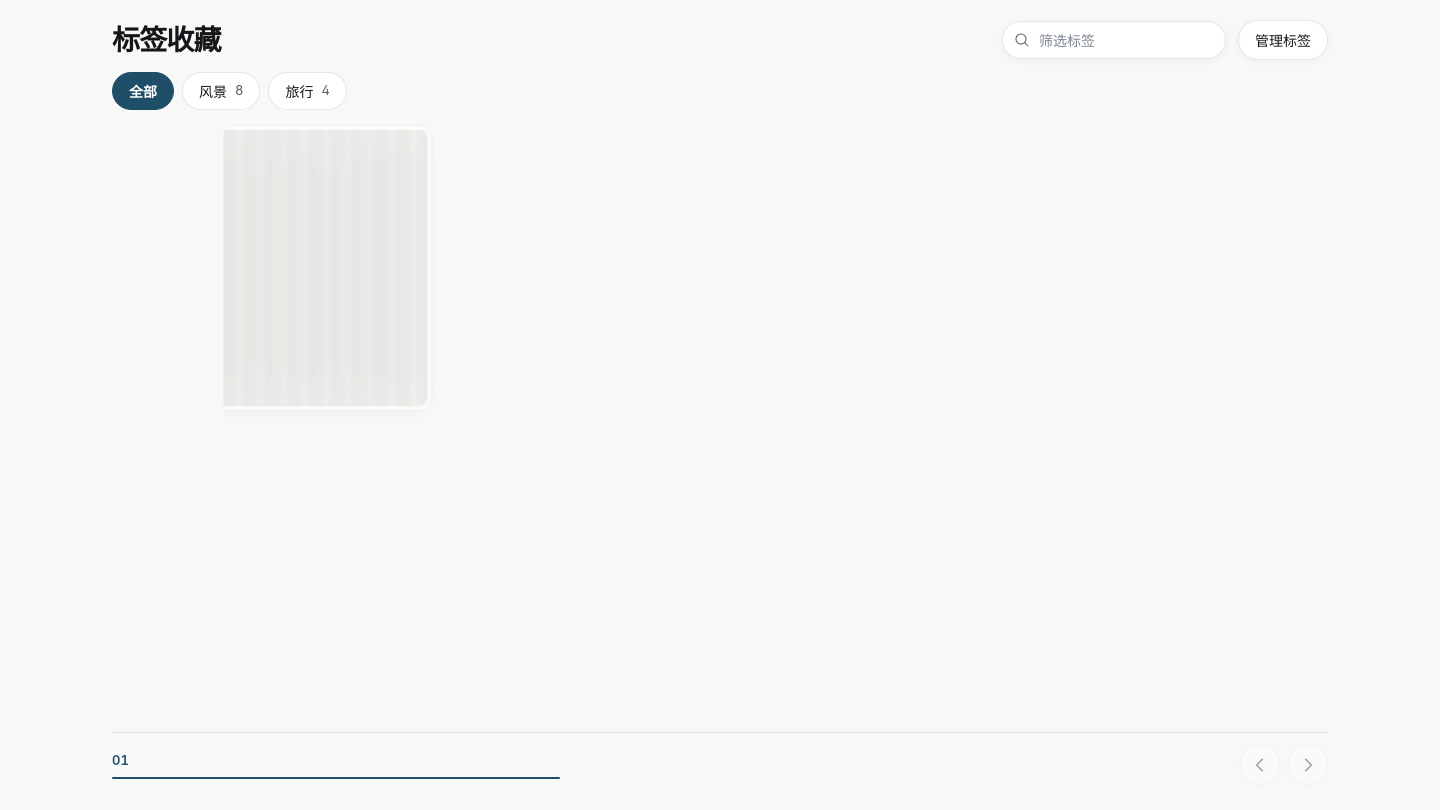
Test: aborts an old label query and ignores its late response after selecting another label
Click the button with aria-label "打开标签 风景": (221, 91) 182,72 -> 260,110
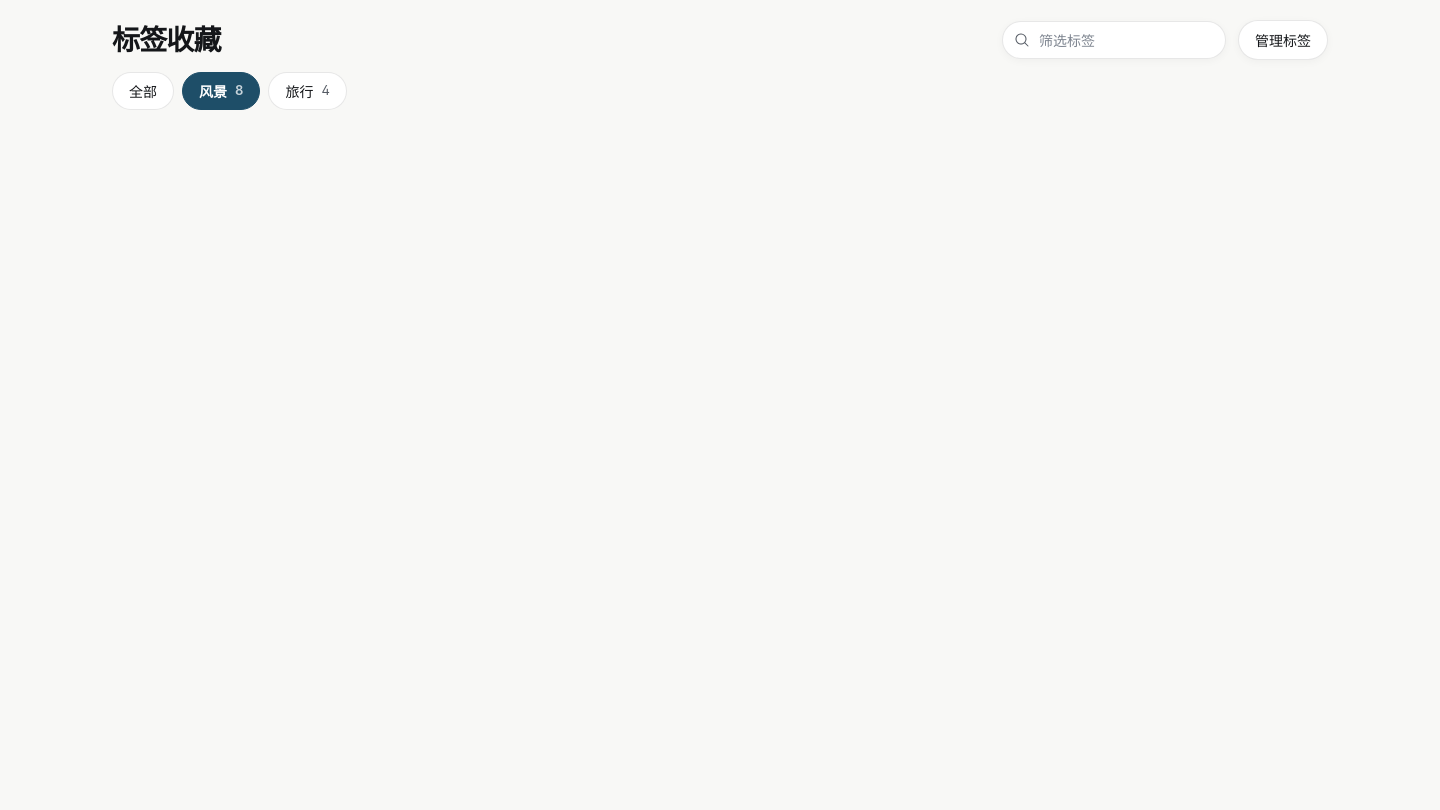
Click the button "旅行 4": (308, 91) 268,72 -> 347,110
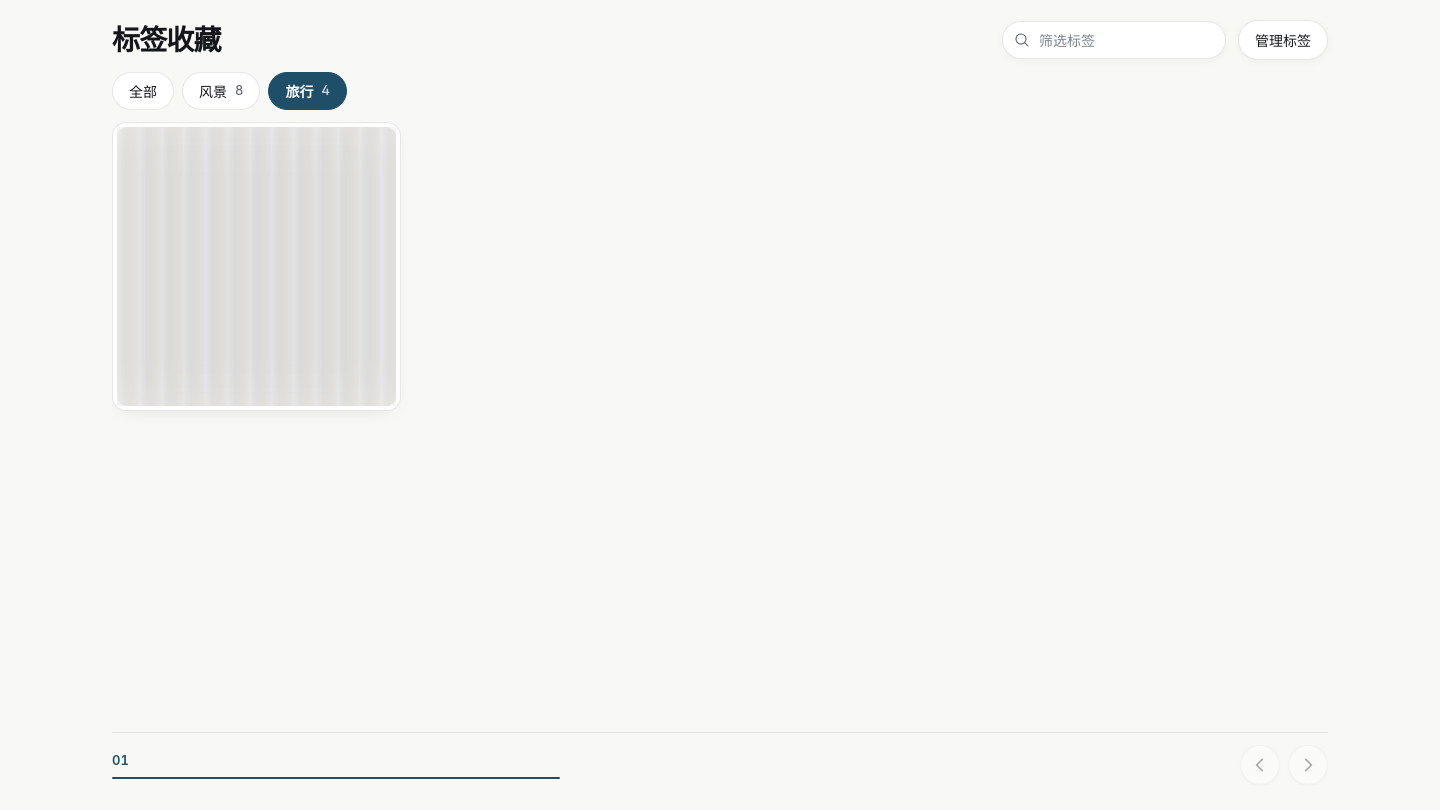
Result: the number of pictures is 1 at 117,127 -> 396,406
